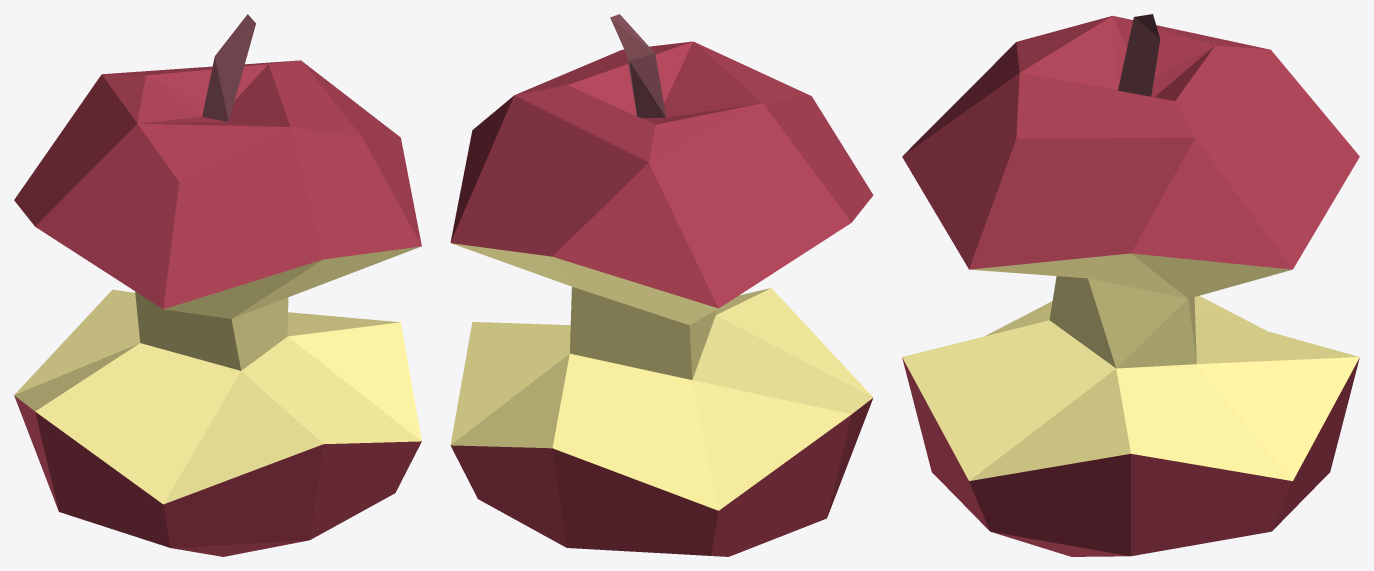
The model's file is Trash_AppleCore.fbx.
3 views of the same model, side by side, from view 1: azimuth 30°, elevation 25°; view 2: azimuth 150°, elevation 25°; view 3: azimuth 270°, elevation 25° (orthographic). The views are drawn at different scales.
Visible parts, largest first — view 1: Cylinder.017; view 2: Cylinder.017; view 3: Cylinder.017.
Part boxes in pixels (box(x1,y1,x2,y2)): Cylinder.017: box(14, 14, 421, 556); Cylinder.017: box(450, 14, 873, 556); Cylinder.017: box(902, 14, 1359, 556).
Size of the model in its own units: 12.69 by 15.79 by 12.69.
